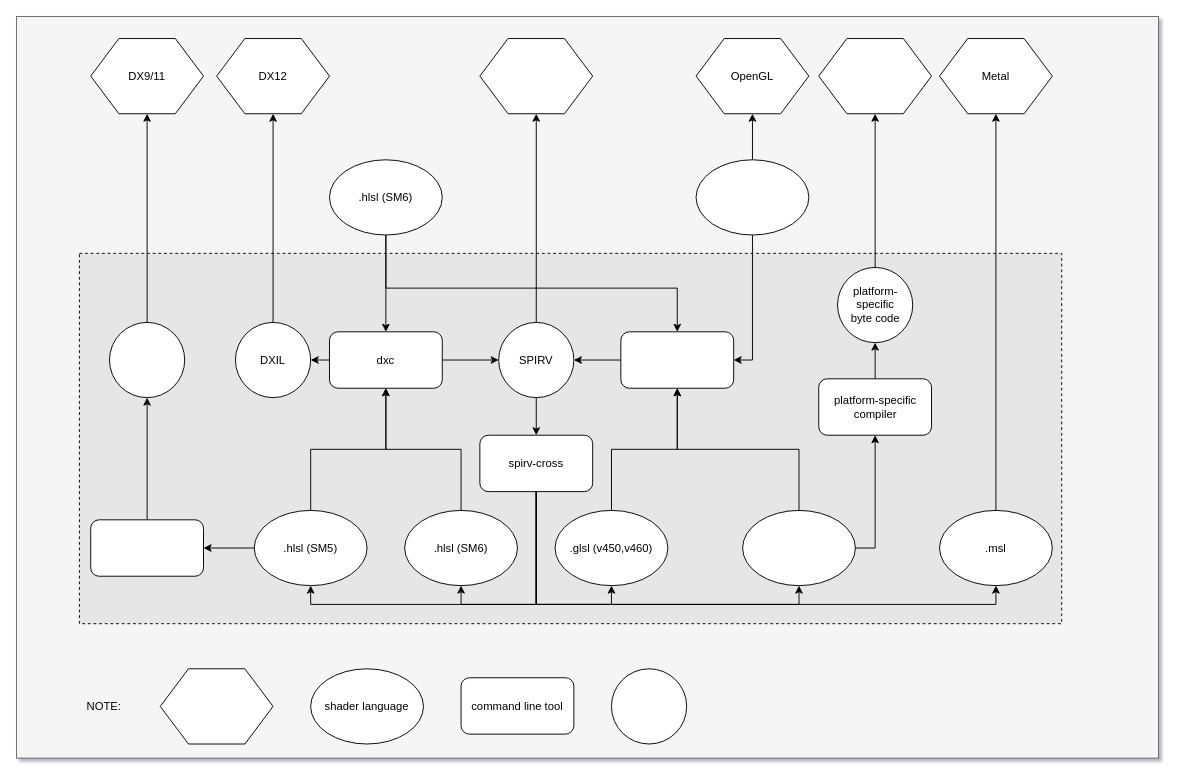
Image size: 1181x780. Some labels were removed from this diagram. Here are the shapes that lost their labels. From the top down, the centre of each, then its label:
At (x=536, y=76): "Vulkan".
At (x=875, y=76): "OpenGL ES".
At (x=752, y=197): ".glsl (v460)".
At (x=147, y=359): "DXBC".
At (x=677, y=359): "glslc/glslangValidator".
At (x=147, y=547): "d3dcompiler".
At (x=798, y=547): ".essl".
At (x=216, y=706): "graphics api".
At (x=649, y=706): "byte code".
